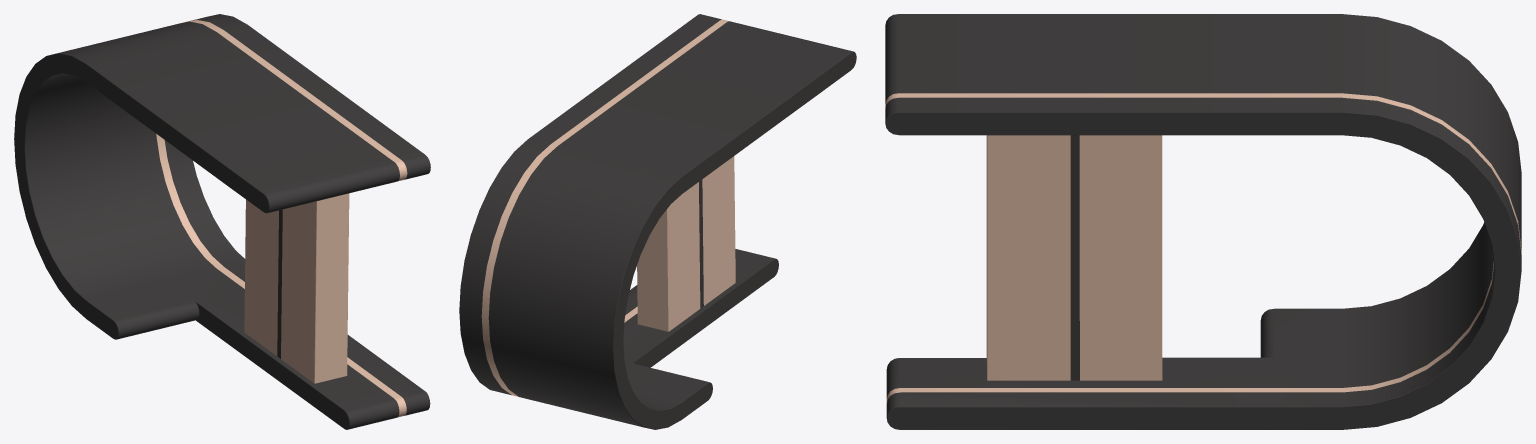
File: stol.fbx
3 renders of one model, left to right at view 1: azimuth 30°, elevation 25°; view 2: azimuth 150°, elevation 25°; view 3: azimuth 270°, elevation 25°, orthographic. The views are drawn at different scales.
Visible parts, largest first — view 1: stol; view 2: stol; view 3: stol.
Part boxes in pixels (box(x1,y1,x2,y2)): stol: box(14, 14, 430, 429); stol: box(459, 14, 856, 429); stol: box(885, 14, 1521, 429).
Bounding box in the file's own units: 46.4 × 69.94 × 127.
